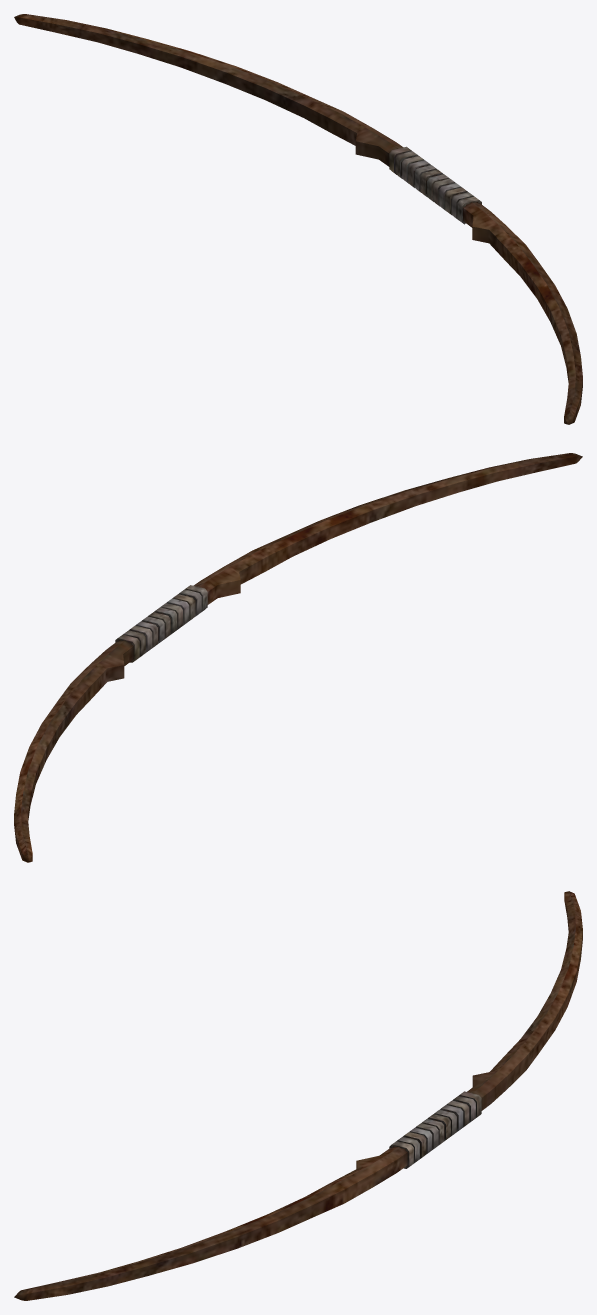
Rendered from bow_m_nope_bow1_nope_bow1.glb.
The picture shows the model from 3 angles, top to bottom: view 1: azimuth 30°, elevation 25°; view 2: azimuth 150°, elevation 25°; view 3: azimuth 330°, elevation 25°; orthographic projection.
Bounding box in the file's own units: 0.3059 × 0.0408 × 1.89.
Materials: 1 (1 with a texture image).
